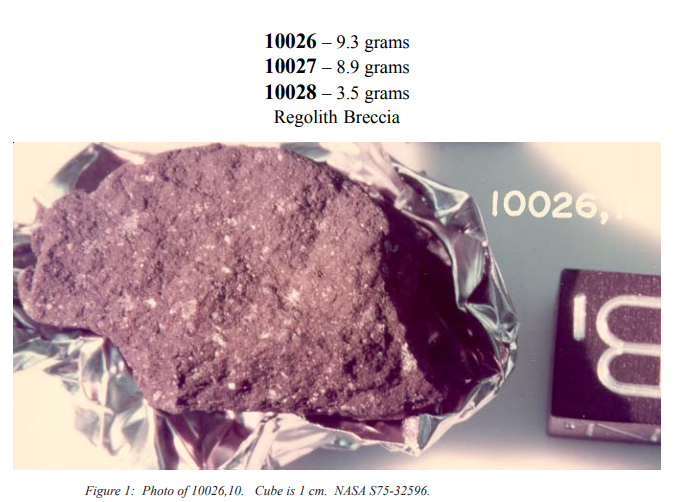Breccia: (33, 172, 451, 437)
